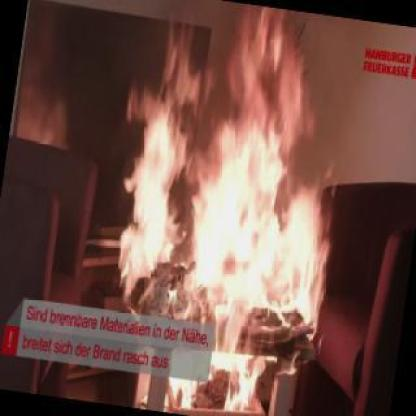Fire: (91, 27, 354, 415)
